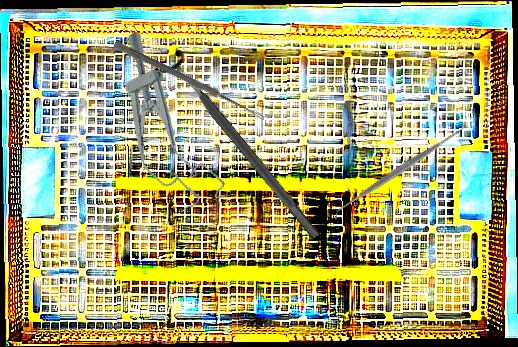Fixation Ring: (153, 46, 331, 249)
Spatula Surgical: (327, 119, 471, 223)
Speculum: (91, 25, 230, 223)
Surgical Spoon: (112, 40, 267, 122)
